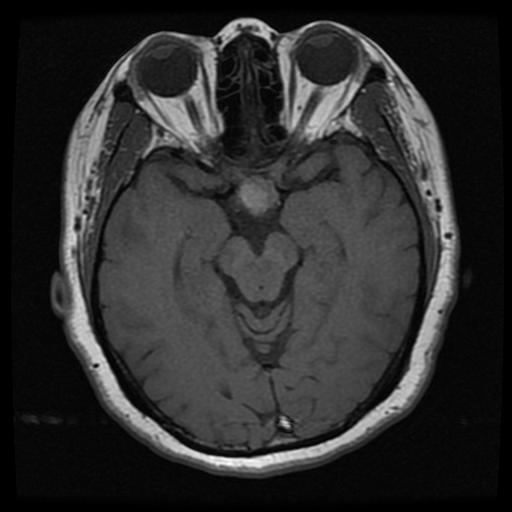Pituirity_tumour: (239, 173, 277, 213)
